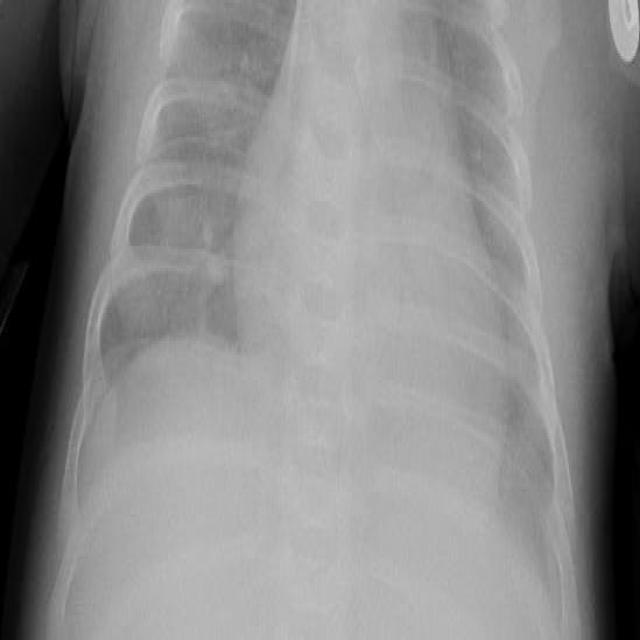low-pneumonia: (186, 202, 231, 294)
